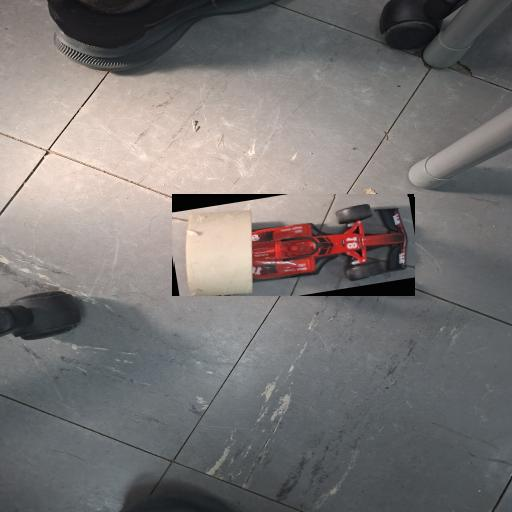carro: (174, 197, 414, 296)
